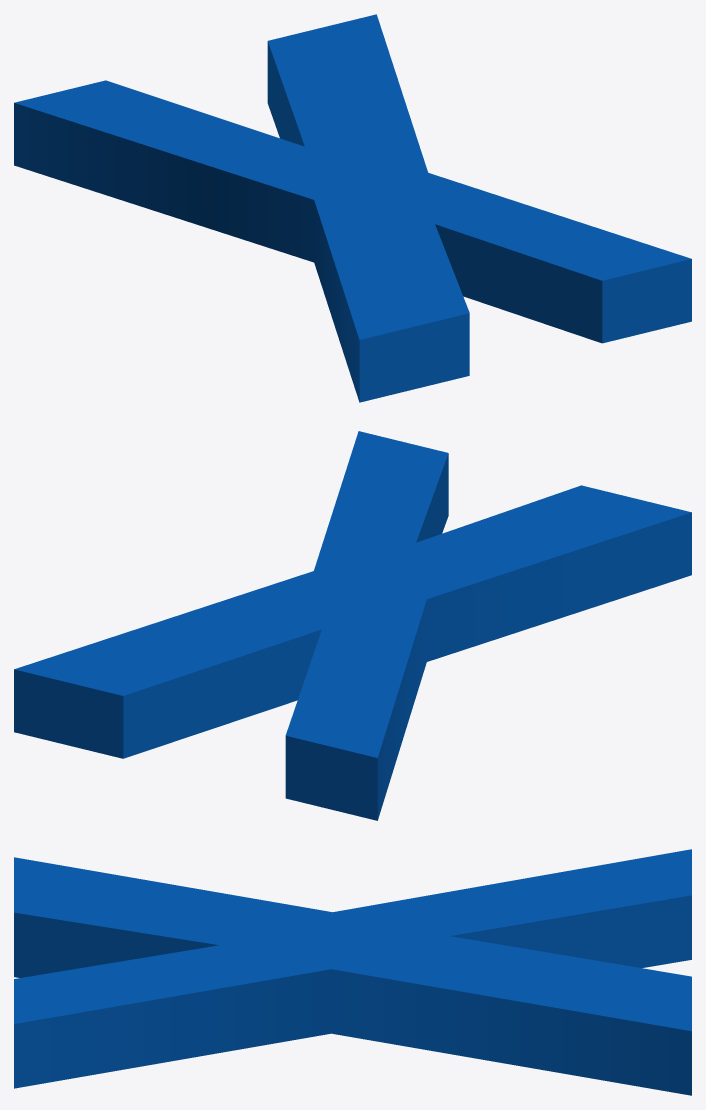
3 views of the same model, one above another, from view 1: azimuth 30°, elevation 25°; view 2: azimuth 150°, elevation 25°; view 3: azimuth 270°, elevation 25° (orthographic). The views are drawn at different scales.
Parts seen in each view (by area): view 1: x; view 2: x; view 3: x.
Part boxes in pixels (<box>): x: <box>14,14,691,402</box>; x: <box>14,431,691,820</box>; x: <box>14,849,691,1095</box>.
Bounding box in the file's own units: 1.51 × 0.25 × 2.38.
